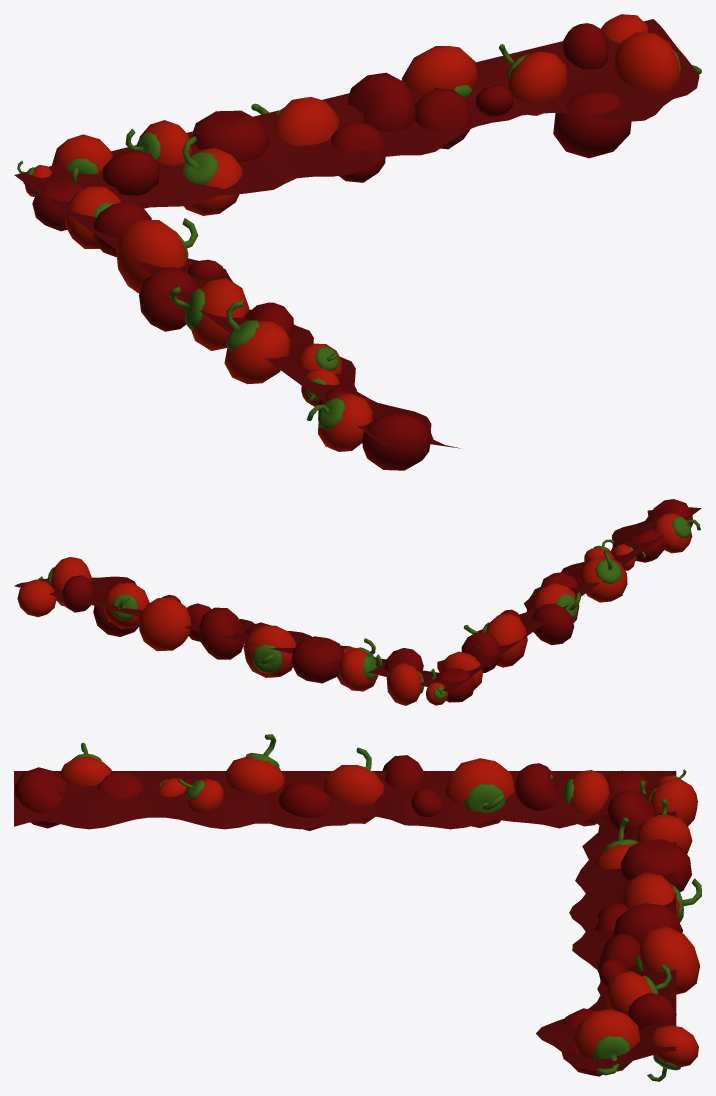
The model's file is PepperTile_CornerSide01.fbx.
The picture shows the model from 3 angles, top to bottom: view 1: azimuth 30°, elevation 25°; view 2: azimuth 150°, elevation 25°; view 3: azimuth 270°, elevation 25°; orthographic projection. The views are drawn at different scales.
Visible parts, largest first — view 1: Plane.001; view 2: Plane.001; view 3: Plane.001.
Part boxes in pixels (<box>): Plane.001: <box>14,14,701,470</box>; Plane.001: <box>14,499,701,705</box>; Plane.001: <box>14,734,701,1081</box>.
Bounding box in the file's own units: 854 × 140 × 831.
2 materials, 2 textured.
